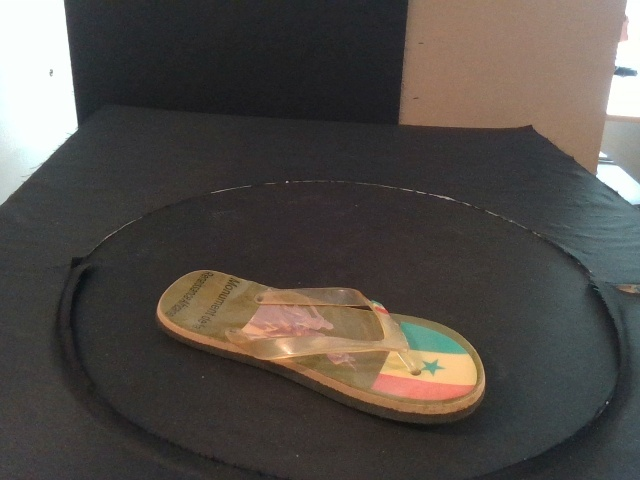shoe: (154, 267, 488, 427)
